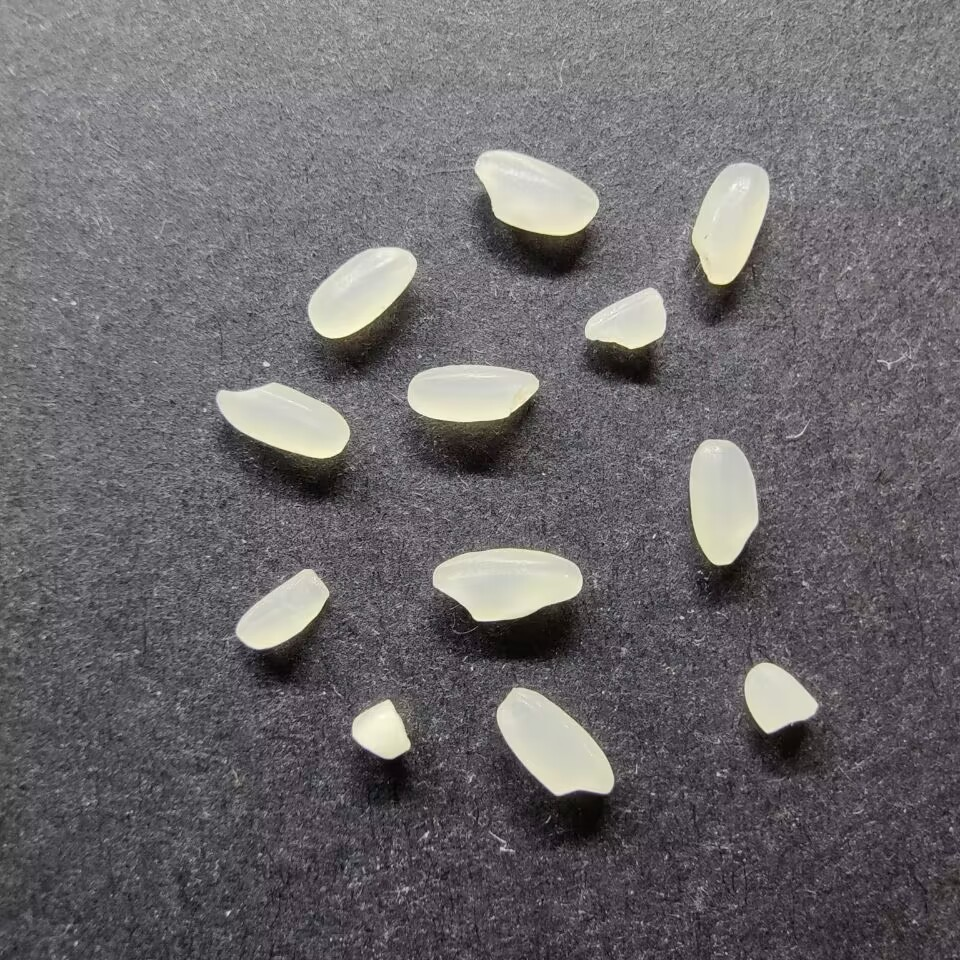broken: (741, 660, 821, 736), (581, 284, 669, 352), (348, 700, 413, 761)
rice: (494, 685, 617, 800), (429, 546, 584, 622), (472, 149, 601, 237), (213, 380, 351, 459), (305, 244, 417, 340), (689, 159, 770, 286), (686, 437, 760, 566), (232, 567, 332, 651), (405, 362, 540, 424)
